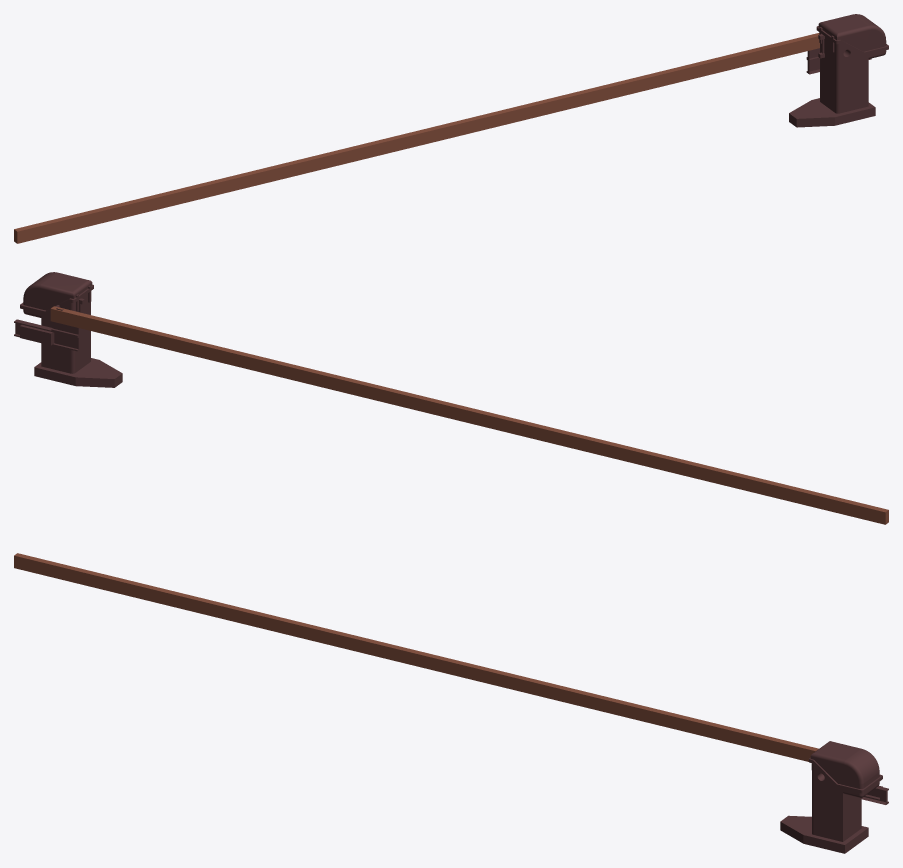
The model's file is level_crossing (1) (1).fbx.
3 renders of one model, top to bottom at view 1: azimuth 30°, elevation 25°; view 2: azimuth 150°, elevation 25°; view 3: azimuth 330°, elevation 25°, orthographic. The views are drawn at different scales.
Parts seen in each view (by area): view 1: pCube1, Object_2; view 2: pCube1, Object_2; view 3: pCube1, Object_2.
Part boxes in pixels (x1,y1,x2,y2): pCube1: (14,33,819,243); Object_2: (789,14,888,127); pCube1: (50,306,888,524); Object_2: (14,272,122,387); pCube1: (14,553,818,761); Object_2: (780,741,888,853).
Bounding box in the file's own units: 727 × 71.5 × 39.5.
